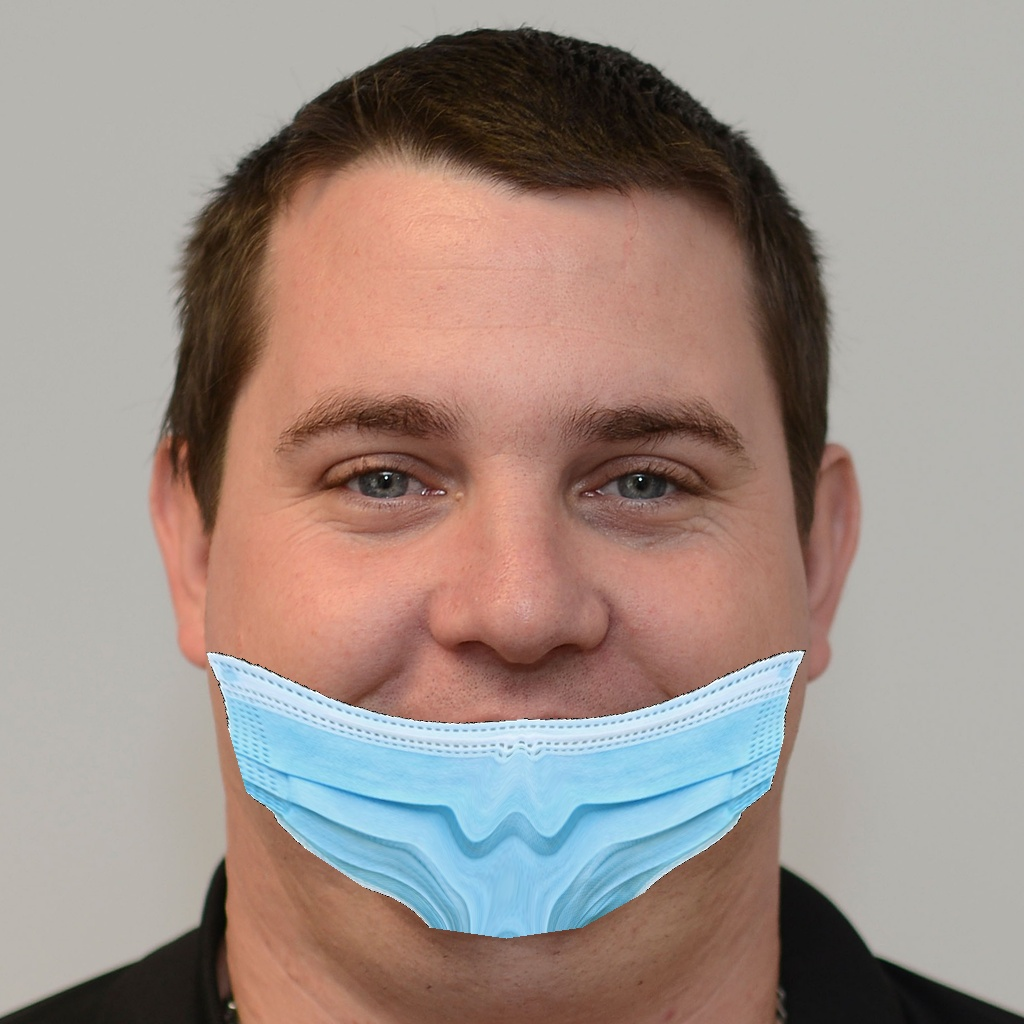mascarilla_mal_puesta: (197, 328, 892, 1008)
